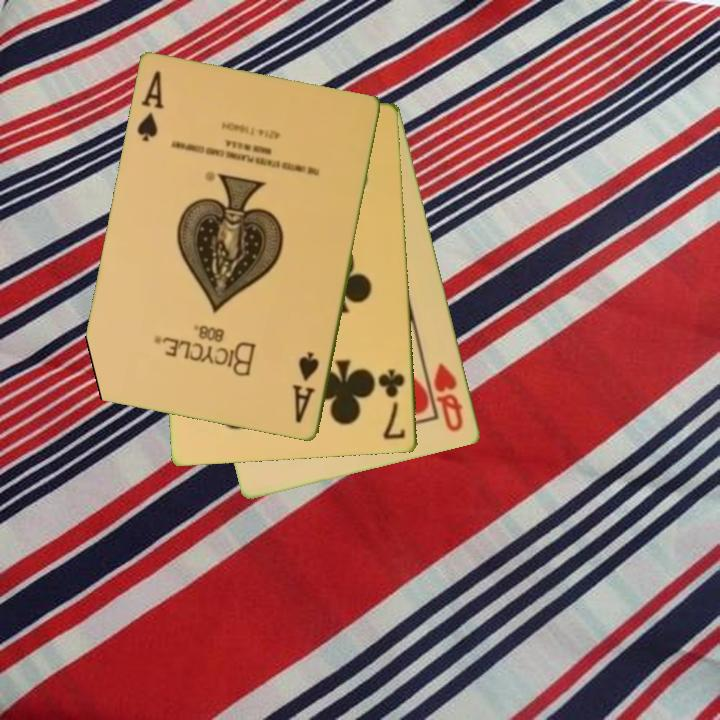7c: (376, 366, 409, 443)
As: (289, 348, 323, 427), (133, 68, 167, 145)
Qh: (430, 360, 467, 435)
